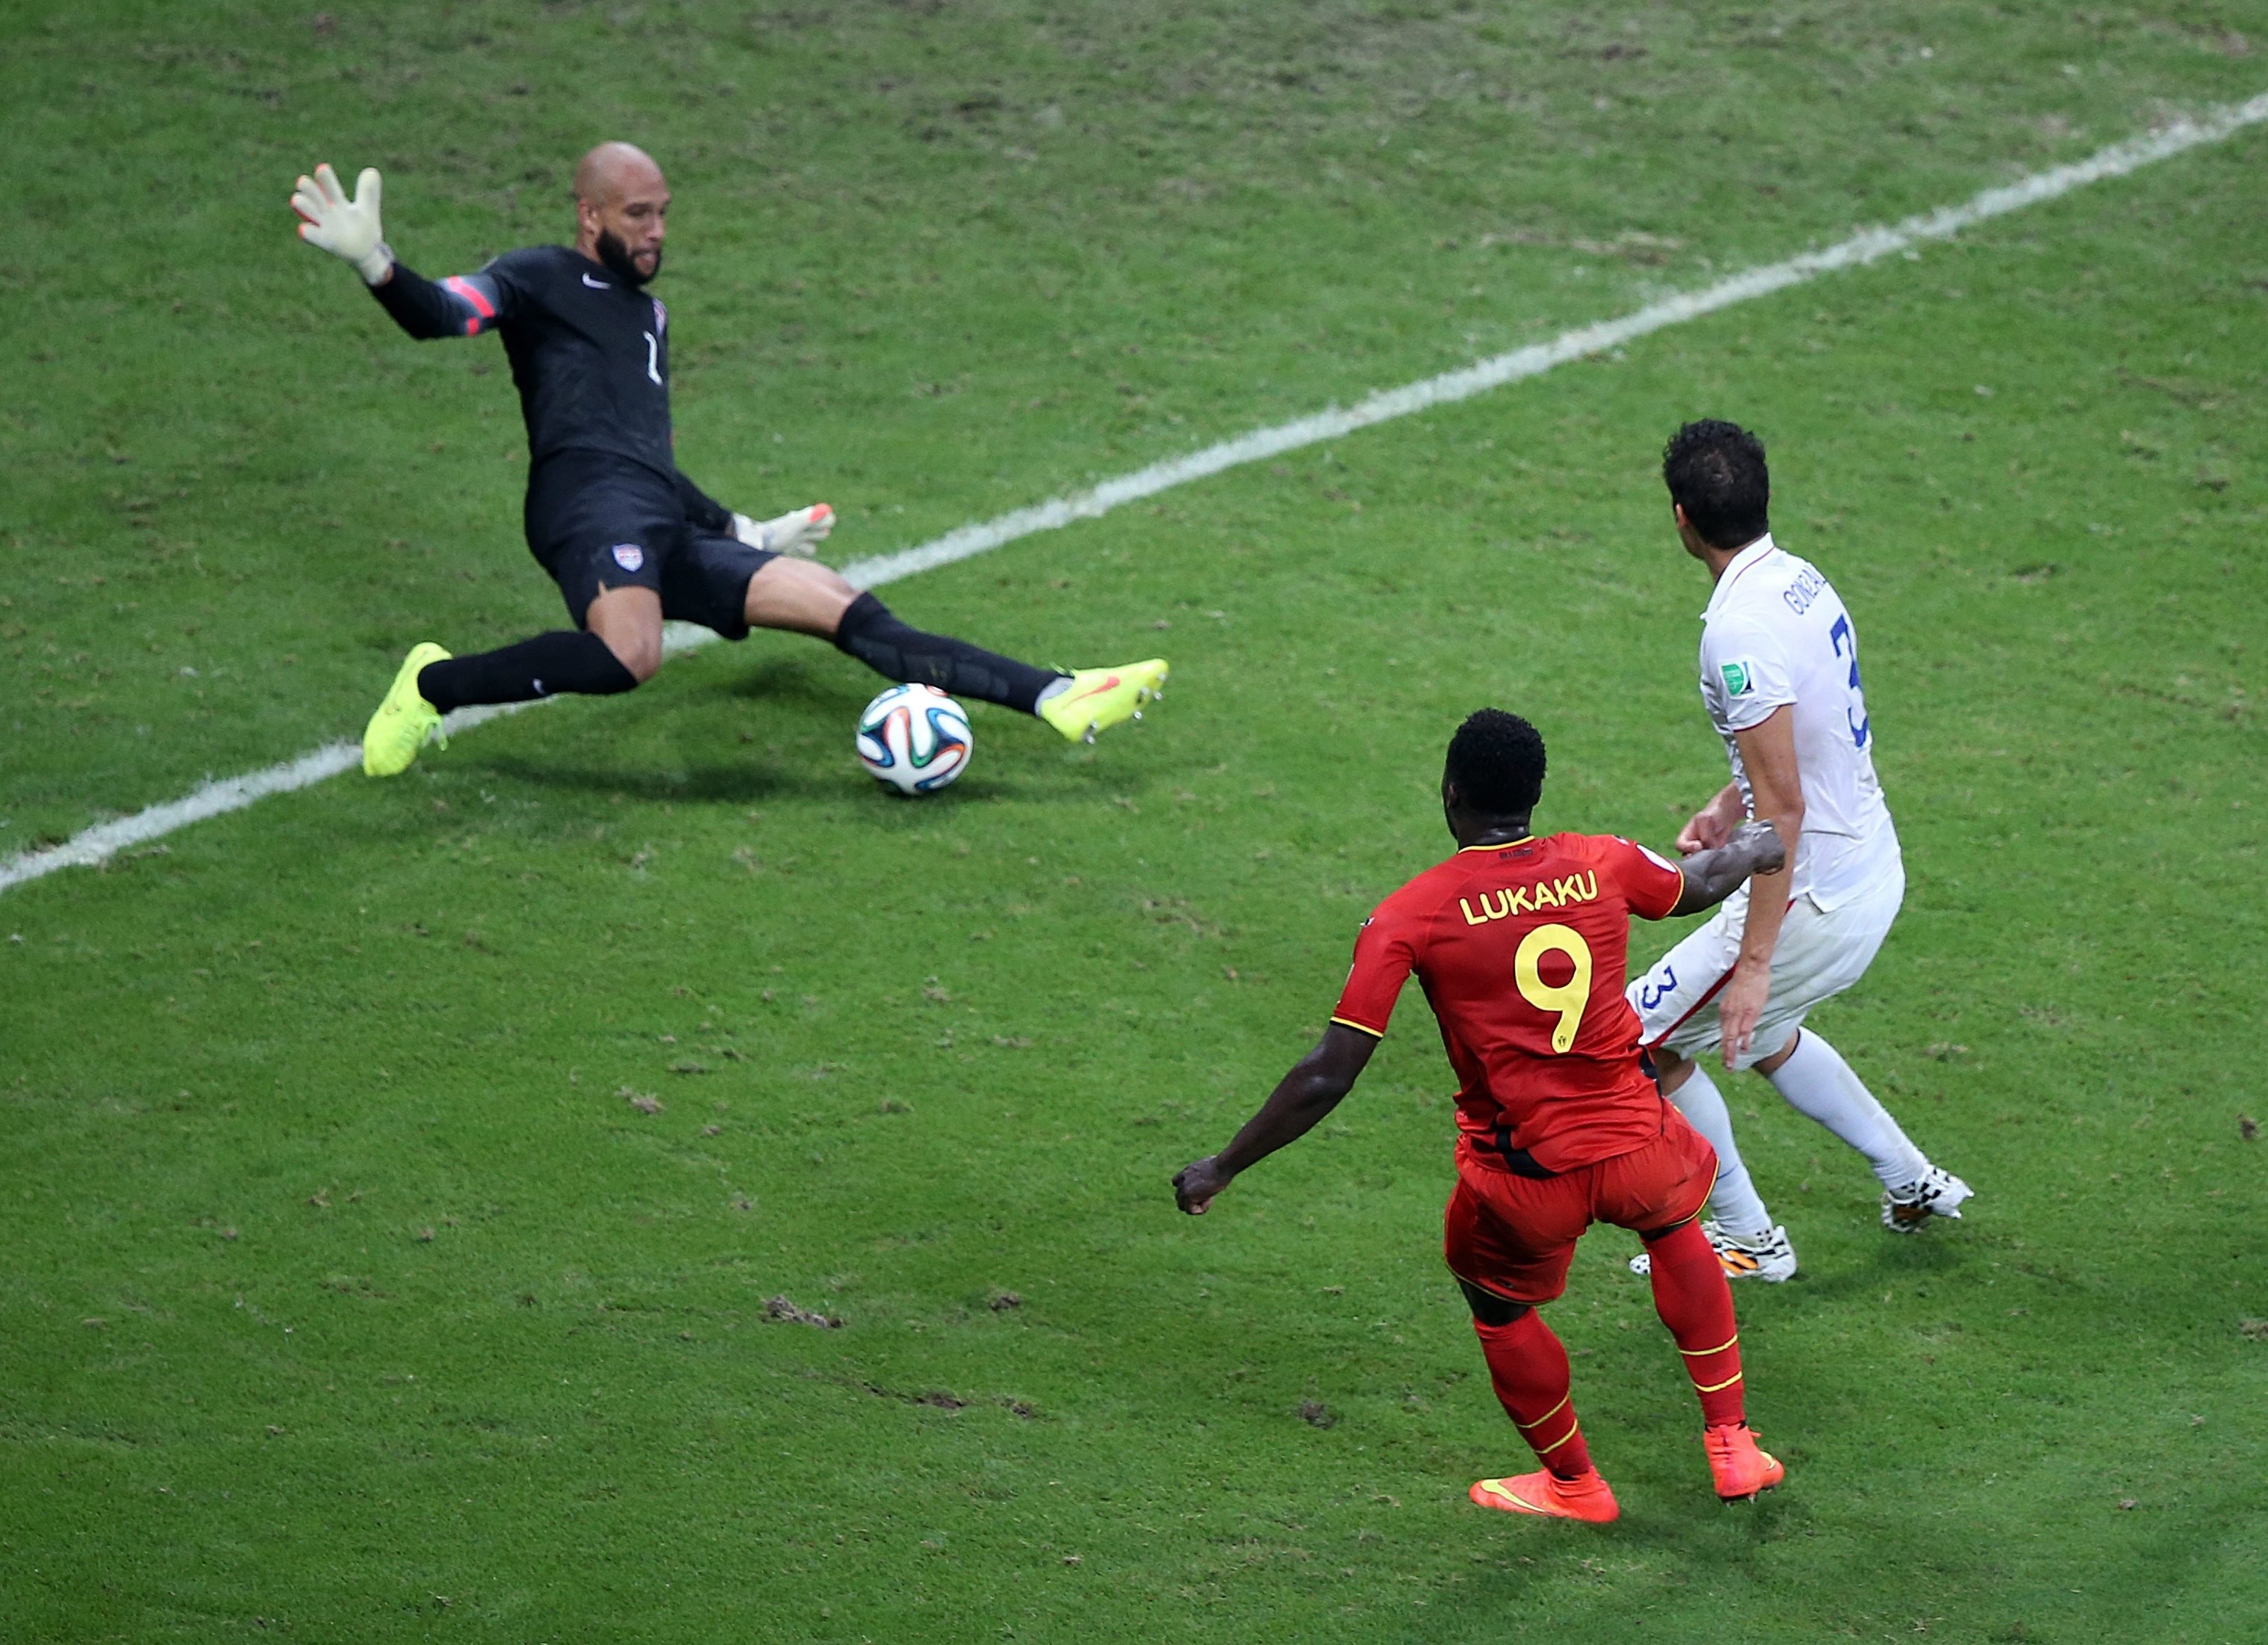football: (845, 673, 983, 796)
